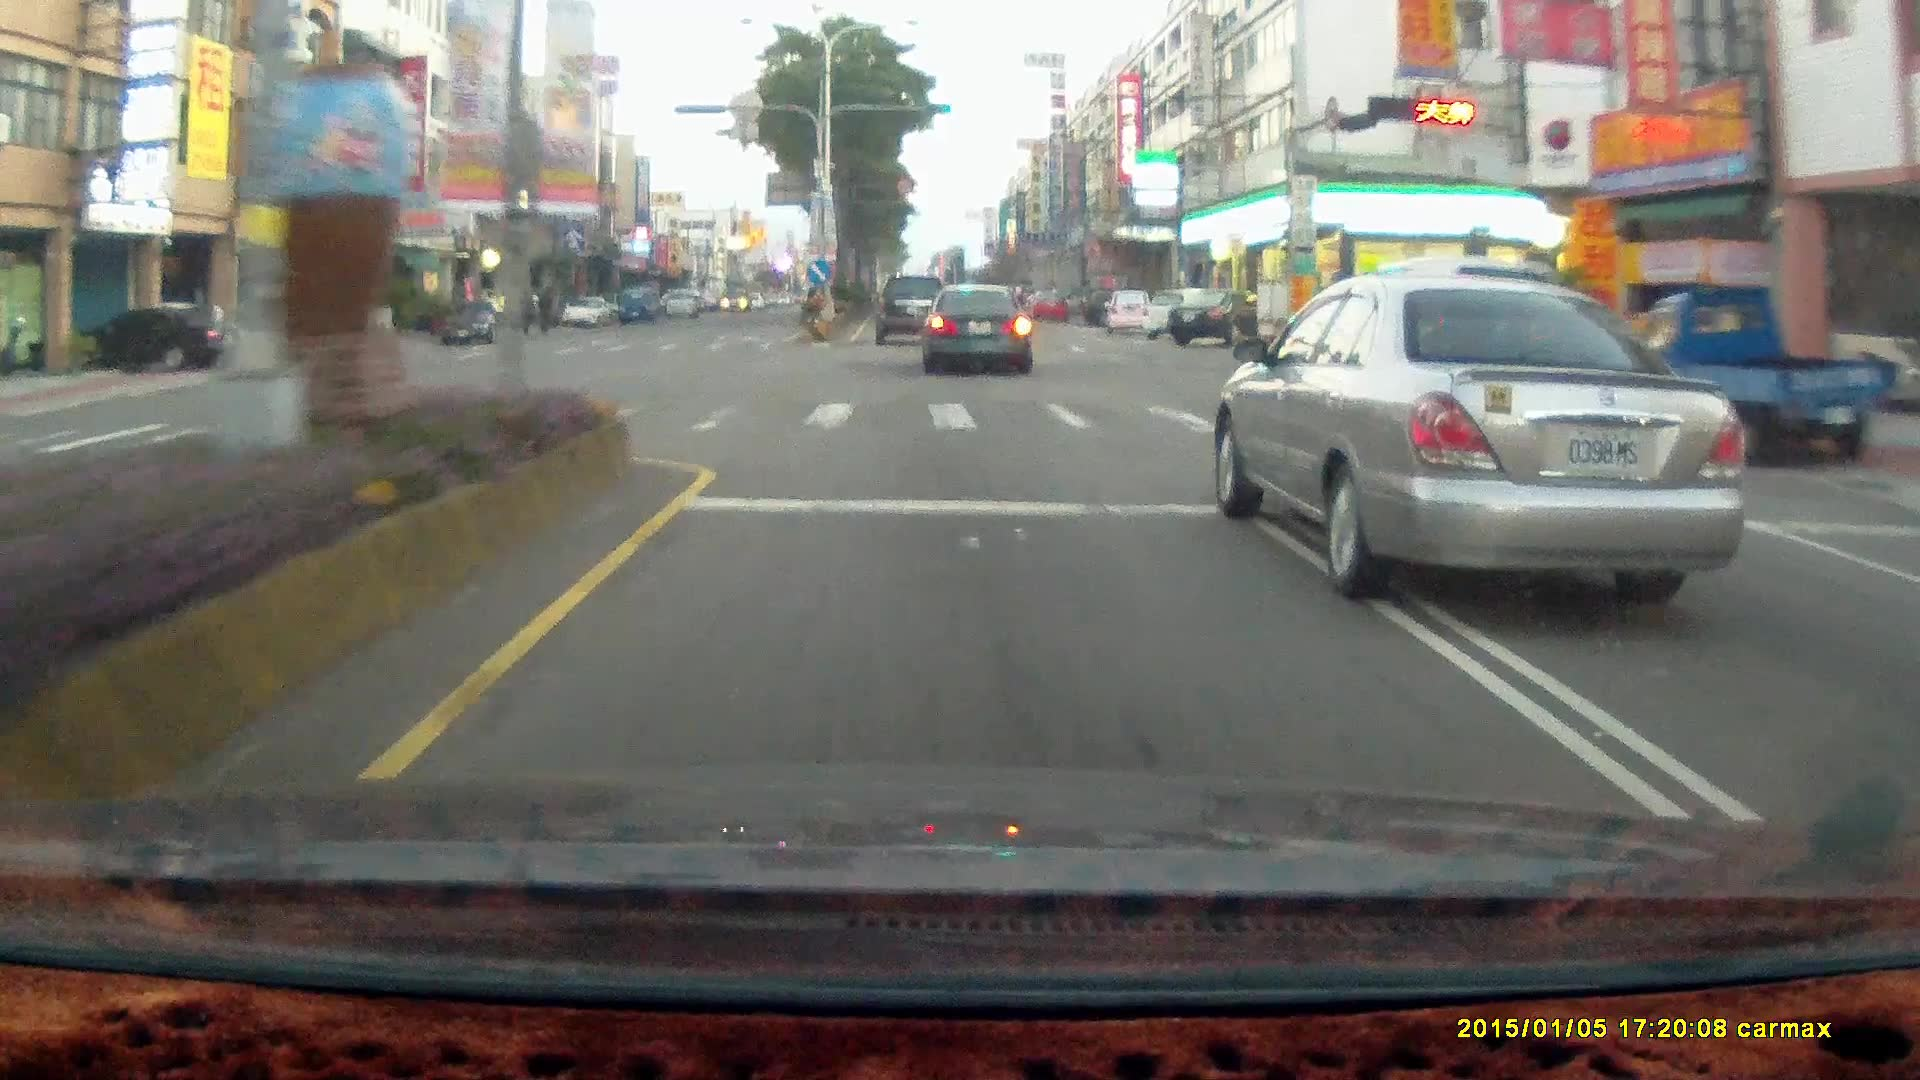pedestrian: (513, 289, 535, 338), (534, 283, 554, 335), (536, 287, 556, 333)
vehicle: (1211, 276, 1744, 593), (1633, 282, 1902, 465), (1331, 260, 1594, 432), (1633, 282, 1875, 464), (63, 306, 241, 371), (91, 302, 248, 372), (922, 285, 1034, 382), (920, 284, 1030, 377), (242, 290, 390, 354), (262, 292, 396, 361), (1165, 289, 1275, 346), (872, 272, 951, 349), (1170, 292, 1264, 349), (874, 275, 950, 346), (1139, 290, 1215, 342), (437, 303, 512, 352), (441, 305, 504, 344), (1098, 290, 1152, 336), (1075, 287, 1136, 328), (1105, 292, 1155, 340), (560, 297, 614, 330), (562, 295, 611, 327), (1026, 292, 1064, 324), (618, 289, 654, 322), (655, 290, 688, 316)
